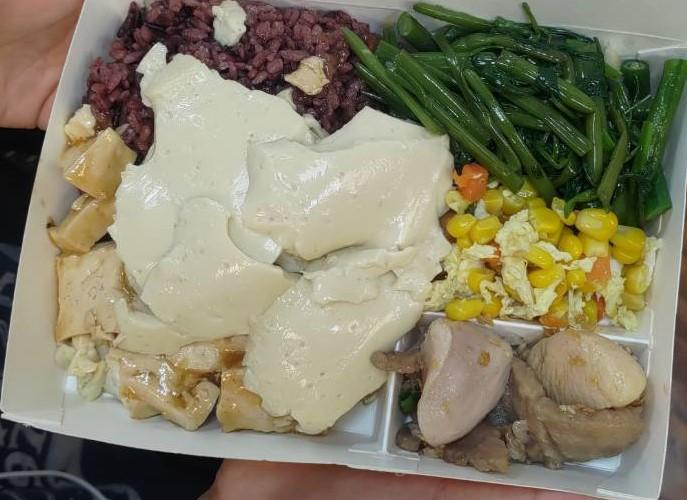big grilled chicken leg: (5, 0, 685, 493)
braised fish: (82, 0, 404, 175)
braised fish fillet: (129, 79, 448, 412), (62, 132, 309, 435), (369, 7, 665, 202), (431, 159, 657, 323)
braised pork: (400, 309, 654, 472)
